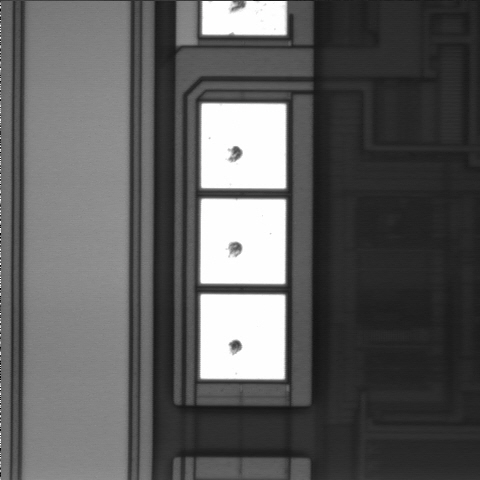pad: (200, 199, 286, 284), (201, 103, 286, 188), (200, 294, 285, 379)
